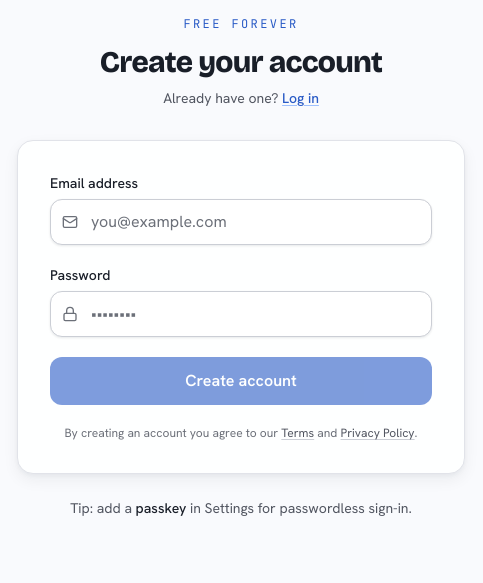
Test: Register Page › asks an unverified account to check email when the instance requires it
Type "new@example.com" into the field labelled "Email address".
click(241, 222); type("new@example.com")  # box 50,199 -> 432,245
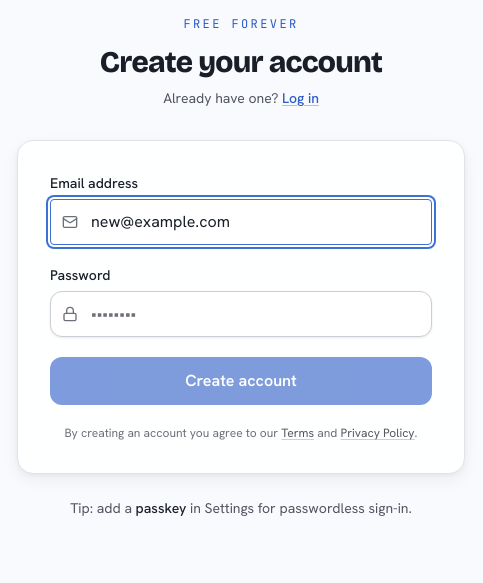
Type "password123" into the password field labelled "Password".
click(241, 314); type("password123")  # box 50,291 -> 432,337
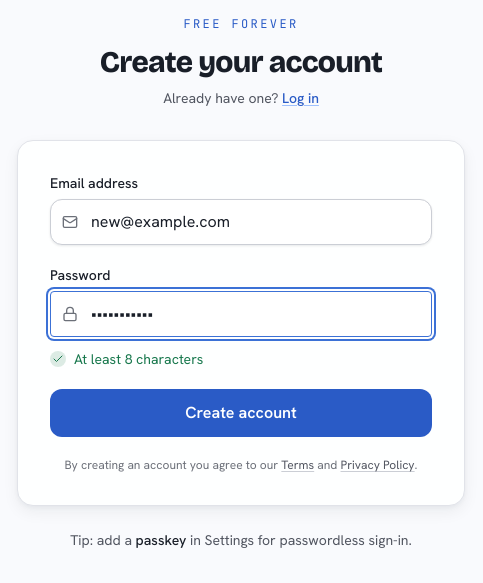
Click the button "Create account".
click(241, 413)  # box 50,389 -> 432,437
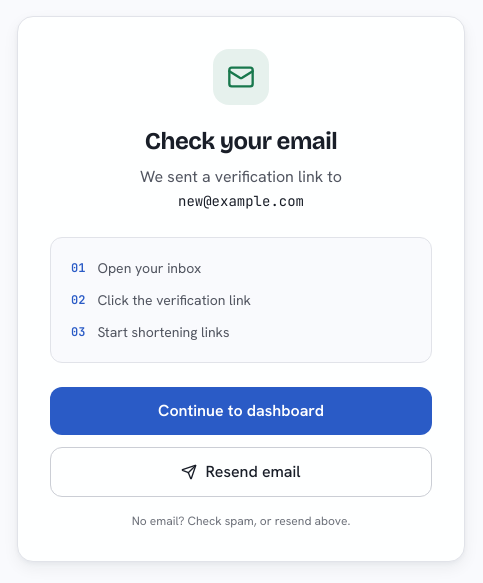
Now the heading "Check your email" is shown, box 145,127 -> 337,155
